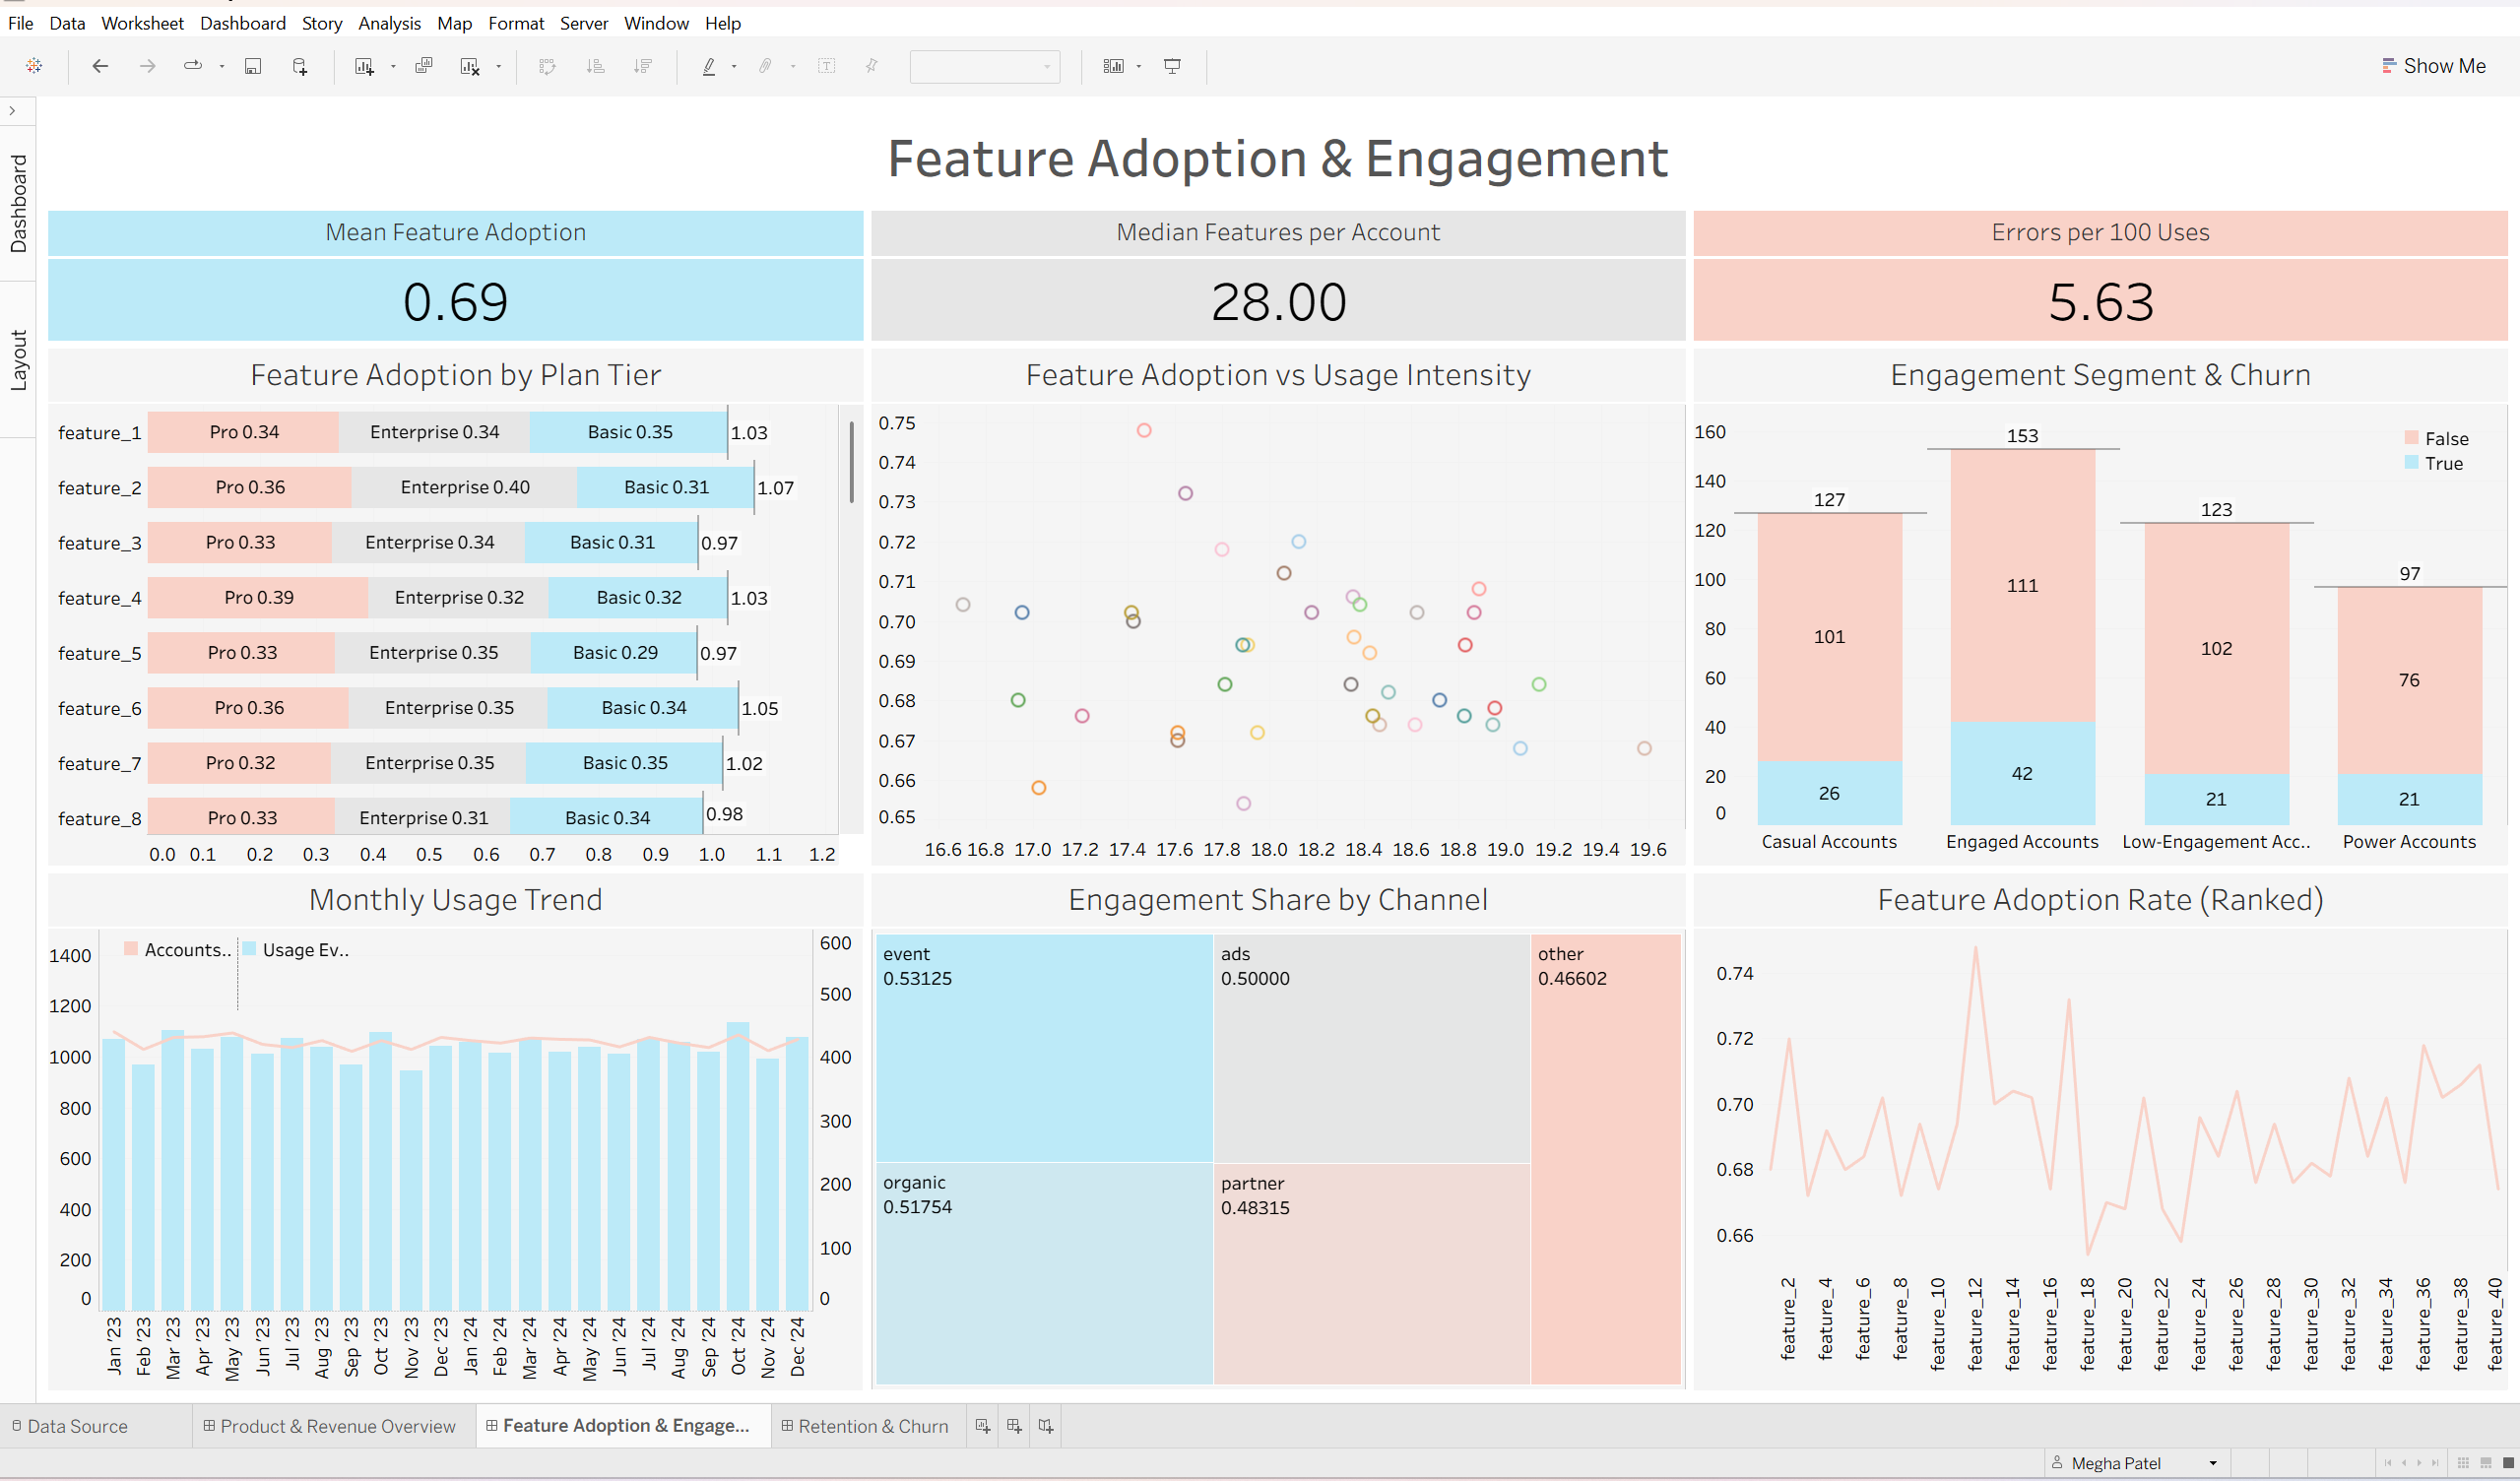

This screenshot's page, from the dashboard's own definition file:
{"tool":"tableau","page":{"name":"Feature Adoption & Engagement","canvas":[1000,1000],"units":"permille","ordinal":0},"visuals":[{"type":"title","box":[3.2,6,993.7,78.4]},{"type":"worksheet","title":"Mean Feature Adoption","mark":"Automatic","box":[3.2,84.5,331.5,105.6]},{"type":"worksheet","title":"Median Features per Account","mark":"Automatic","box":[334.7,84.5,331.1,105.6]},{"type":"worksheet","title":"Errors per 100 Uses","mark":"Automatic","box":[665.7,84.5,331.1,105.6]},{"type":"worksheet","title":"Feature Adoption by Plan Tier","mark":"Automatic","rows":["feature_name"],"box":[3.2,190.1,331.5,402]},{"type":"worksheet","title":"Feature Adoption vs Usage Intensity","mark":"Automatic","rows":["adoption_rate"],"cols":["usage_count_per_adopting_account"],"box":[334.7,190.1,331.1,402]},{"type":"worksheet","title":"Engagement Segment & Churn","mark":"Automatic","rows":["account_id"],"cols":["engagement_segment"],"box":[665.7,190.1,331.1,402]},{"type":"legend","title":"Engagement Segment & Churn","param":"[federated.08gda9w19m9aiu12iip601hdbuos].[none:churn_flag:nk]","box":[951.4,251.9,42.8,45.2]},{"type":"worksheet","title":"Monthly Usage Trend","mark":"Line","rows":["usage_events","accounts_with_usage"],"cols":["usage_month"],"box":[3.2,592,331.5,402]},{"type":"worksheet","title":"Engagement Share by Channel","mark":"Automatic","box":[334.7,592,331.1,402]},{"type":"worksheet","title":"Feature Adoption Rate (Ranked)","mark":"Line","rows":["adoption_rate"],"cols":["feature_name"],"box":[665.7,592,331.1,402]},{"type":"legend","title":"Monthly Usage Trend","param":"[federated.05uhvnv0j0o1dr1g265xb1foh54f].[:Measure Names]","box":[33.4,643.3,208.1,57.3]}]}

Visuals, with their boxes on the dashboard's canvas, which has no fixed pixel size, in thousandths of its width and height (x1, y1, x2, y2). These are canvas units, not pixel positions in the 2520x1481 screenshot, which may show the page scaled, cropped or inside an application window:
title: [x1=3, y1=6, x2=997, y2=84]
"Mean Feature Adoption" worksheet: [x1=3, y1=84, x2=335, y2=190]
"Median Features per Account" worksheet: [x1=335, y1=84, x2=666, y2=190]
"Errors per 100 Uses" worksheet: [x1=666, y1=84, x2=997, y2=190]
"Feature Adoption by Plan Tier" worksheet: [x1=3, y1=190, x2=335, y2=592]
"Feature Adoption vs Usage Intensity" worksheet: [x1=335, y1=190, x2=666, y2=592]
"Engagement Segment & Churn" worksheet: [x1=666, y1=190, x2=997, y2=592]
"Engagement Segment & Churn" legend: [x1=951, y1=252, x2=994, y2=297]
"Monthly Usage Trend" worksheet (Line marks): [x1=3, y1=592, x2=335, y2=994]
"Engagement Share by Channel" worksheet: [x1=335, y1=592, x2=666, y2=994]
"Feature Adoption Rate (Ranked)" worksheet (Line marks): [x1=666, y1=592, x2=997, y2=994]
"Monthly Usage Trend" legend: [x1=33, y1=643, x2=242, y2=701]
